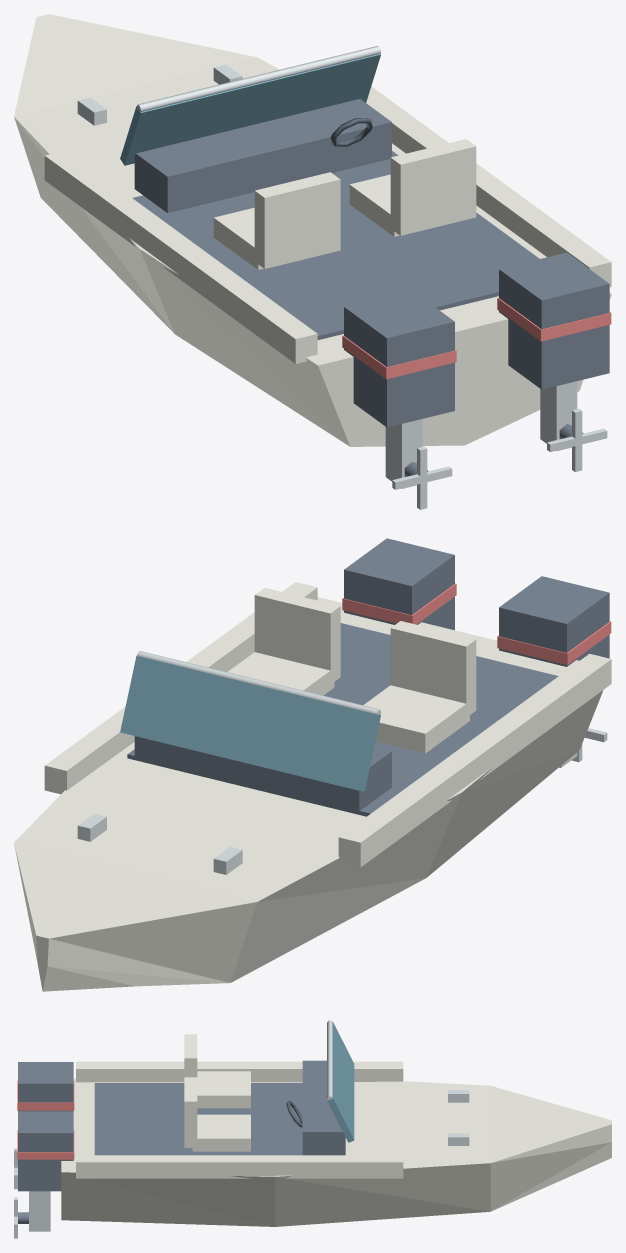
The model's file is speedboat.glb.
3 renders of one model, top to bottom at view 1: azimuth 30°, elevation 25°; view 2: azimuth 150°, elevation 25°; view 3: azimuth 270°, elevation 25°, orthographic. The views are drawn at different scales.
Parts seen in each view (by area): view 1: V_Hull, Cockpit_Inset, Engine_Cowl (×2), Gunwale (×2), Dashboard, Seat_Back (×2), Windshield, Seat_Cushion (×2), Lower_Unit (×2), Engine_Stripe (×2), Windshield_Top_Frame; view 2: V_Hull, Windshield, Gunwale (×2), Engine_Cowl (×2), Seat_Back (×2), Cockpit_Inset, Seat_Cushion (×2), Dashboard, Engine_Stripe (×2), Windshield_Top_Frame, Bow_Rail_Base (×2); view 3: V_Hull, Gunwale (×2), Cockpit_Inset, Engine_Cowl (×2), Seat_Cushion (×2), Dashboard, Windshield, Seat_Back (×2), Engine_Stripe (×2), Lower_Unit, Windshield_Top_Frame.
Boxes of the visible parts, <box> form: V_Hull: <box>14,14,611,446</box>; Cockpit_Inset: <box>132,151,539,339</box>; Engine_Cowl (×2): <box>344,252,609,427</box>; Gunwale (×2): <box>44,86,611,363</box>; Dashboard: <box>134,99,391,212</box>; Seat_Back (×2): <box>254,139,476,268</box>; Windshield: <box>120,53,380,165</box>; Seat_Cushion (×2): <box>213,174,399,269</box>; Lower_Unit (×2): <box>385,381,577,488</box>; Engine_Stripe (×2): <box>342,297,611,379</box>; Windshield_Top_Frame: <box>137,46,380,111</box>; V_Hull: <box>14,597,603,991</box>; Windshield: <box>120,656,380,791</box>; Gunwale (×2): <box>44,582,611,867</box>; Engine_Cowl (×2): <box>344,538,609,666</box>; Seat_Back (×2): <box>254,588,476,714</box>; Cockpit_Inset: <box>127,623,558,816</box>; Seat_Cushion (×2): <box>227,652,469,753</box>; Dashboard: <box>134,736,391,811</box>; Engine_Stripe (×2): <box>342,583,611,664</box>; Windshield_Top_Frame: <box>137,651,380,714</box>; Bow_Rail_Base (×2): <box>77,813,242,874</box>; V_Hull: <box>61,1078,611,1226</box>; Gunwale (×2): <box>76,1061,403,1178</box>; Cockpit_Inset: <box>94,1083,302,1155</box>; Engine_Cowl (×2): <box>18,1062,73,1191</box>; Seat_Cushion (×2): <box>192,1071,250,1151</box>; Dashboard: <box>302,1060,345,1155</box>; Windshield: <box>327,1022,354,1142</box>; Seat_Back (×2): <box>184,1034,197,1147</box>; Engine_Stripe (×2): <box>17,1080,74,1159</box>; Lower_Unit: <box>29,1191,50,1231</box>; Windshield_Top_Frame: <box>327,1020,332,1100</box>.
Bounding box in the file's own units: 2.04 × 1.43 × 5.03.
